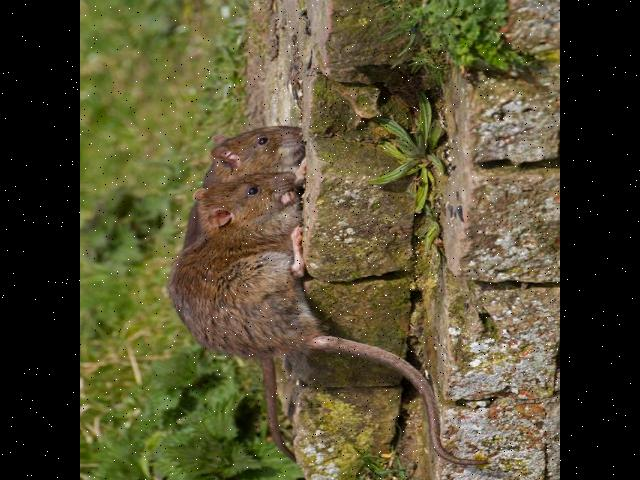Tikus: (170, 169, 482, 463), (183, 124, 303, 463)
